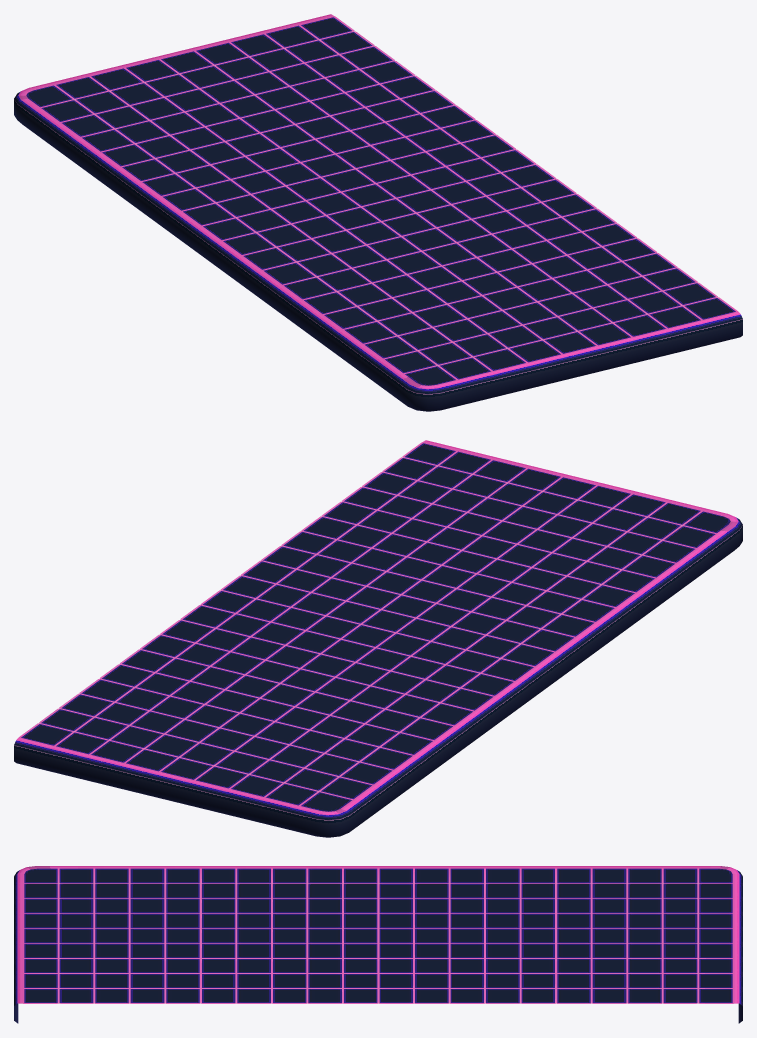
The model's file is conveyor.glb.
3 views of the same model, one above another, from view 1: azimuth 30°, elevation 25°; view 2: azimuth 150°, elevation 25°; view 3: azimuth 270°, elevation 25° (orthographic). The views are drawn at different scales.
Visible parts, largest first — view 1: Object_2; view 2: Object_2; view 3: Object_2.
Part boxes in pixels (bbox=[...]): Object_2: bbox=[14, 14, 742, 411]; Object_2: bbox=[14, 440, 742, 837]; Object_2: bbox=[14, 866, 742, 1023].
Size of the model in its own units: 39.27 by 2.7 by 86.74.
Materials: 1 (1 with a texture image).
